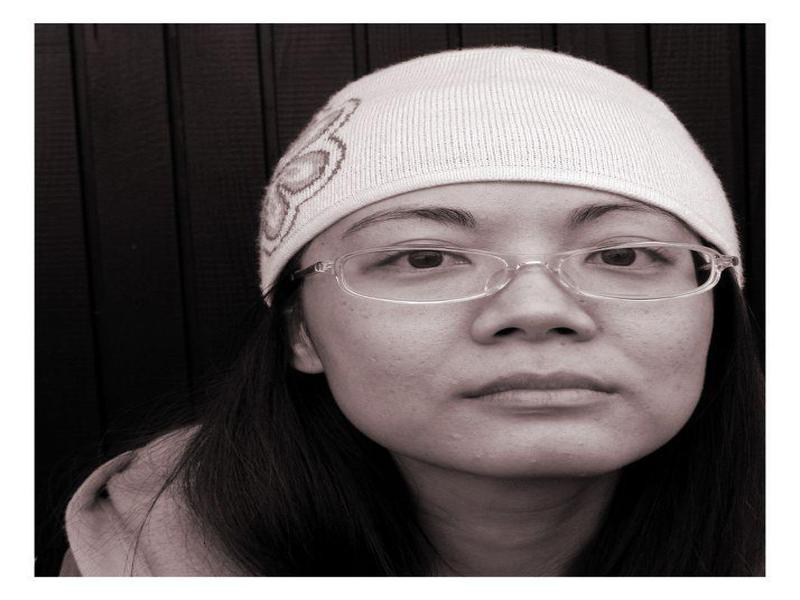person: (90, 42, 767, 576)
